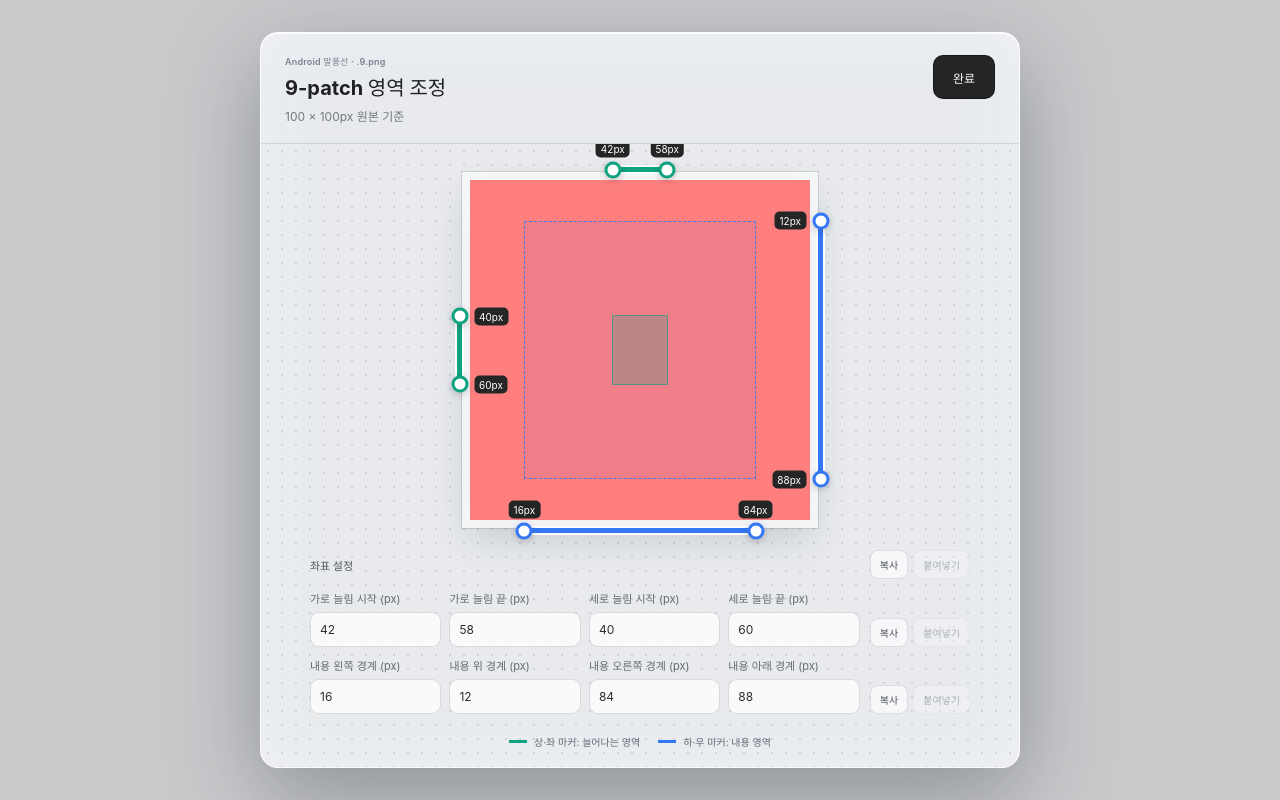
Scenario: nine-patch area editor › commits a multi-pixel drag once when the pointer is dropped
This screenshot has width=1280, height=800.
Press the mouse on the button named "상단 늘림 시작 마커" at {"x": 613, "y": 170}, box [604,161,621,178]
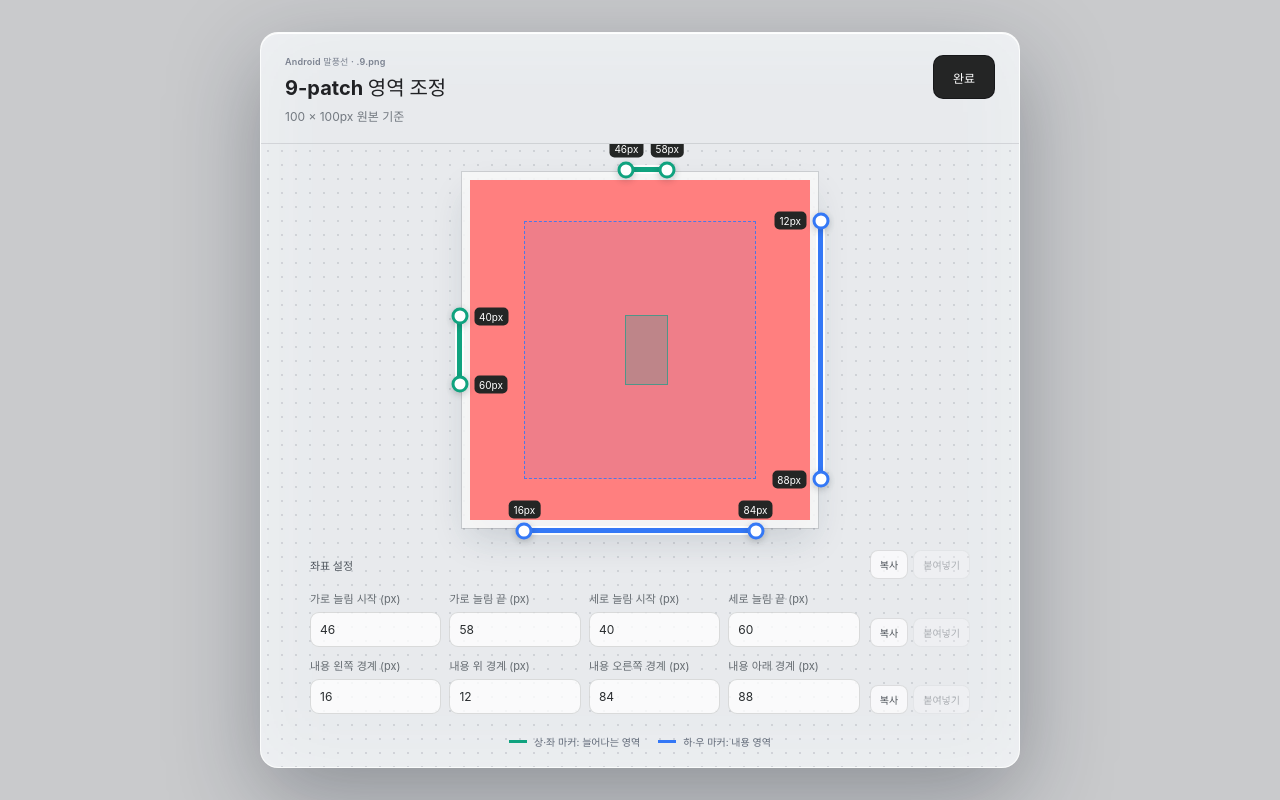
Expected: the number field labelled "가로 늘림 시작 (px)" holds "46", [310,612,441,647]
